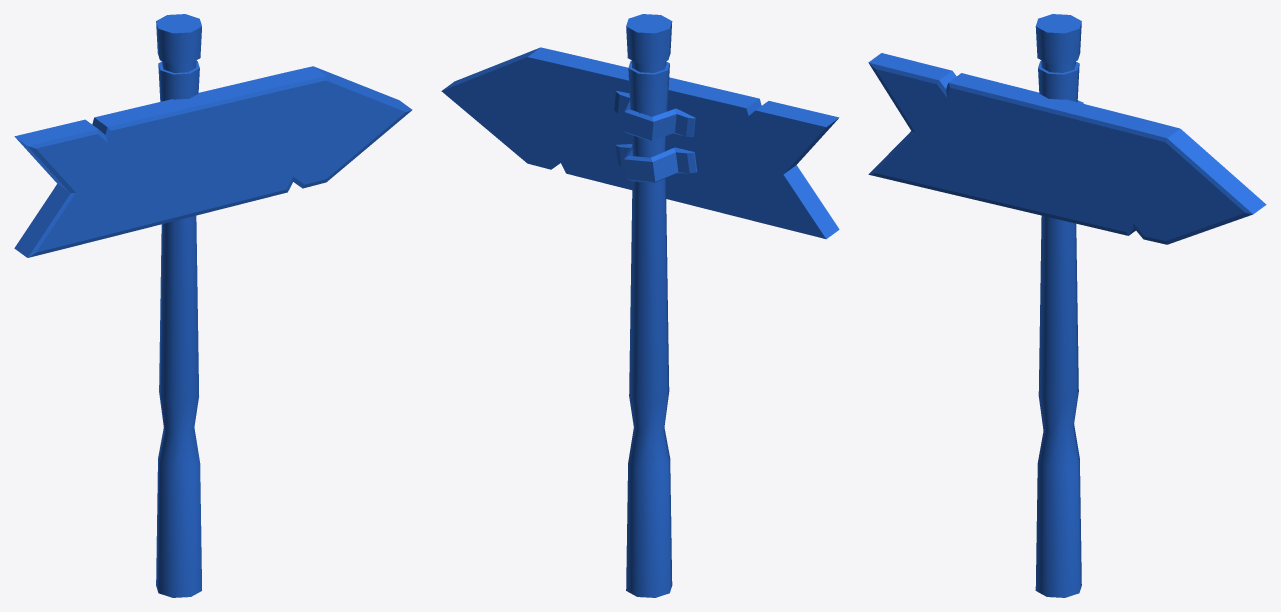
File: Indicator.fbx
The picture shows the model from 3 angles, left to right: view 1: azimuth 30°, elevation 25°; view 2: azimuth 150°, elevation 25°; view 3: azimuth 330°, elevation 25°; orthographic projection.
Visible parts, largest first — view 1: Arrow, Pole; view 2: Arrow, Pole, ArrowAttachDown, ArrowAttachUp; view 3: Arrow, Pole.
Boxes of the visible parts, x1=… form: Arrow: x1=14, y1=66, x2=412, y2=257; Pole: x1=156, y1=14, x2=201, y2=597; Arrow: x1=441, y1=47, x2=839, y2=239; Pole: x1=626, y1=14, x2=672, y2=597; ArrowAttachDown: x1=615, y1=144, x2=697, y2=183; ArrowAttachUp: x1=614, y1=91, x2=695, y2=140; Arrow: x1=868, y1=53, x2=1266, y2=244; Pole: x1=1035, y1=14, x2=1081, y2=597.
Size of the model in its own units: 107 by 150 by 15.43.
